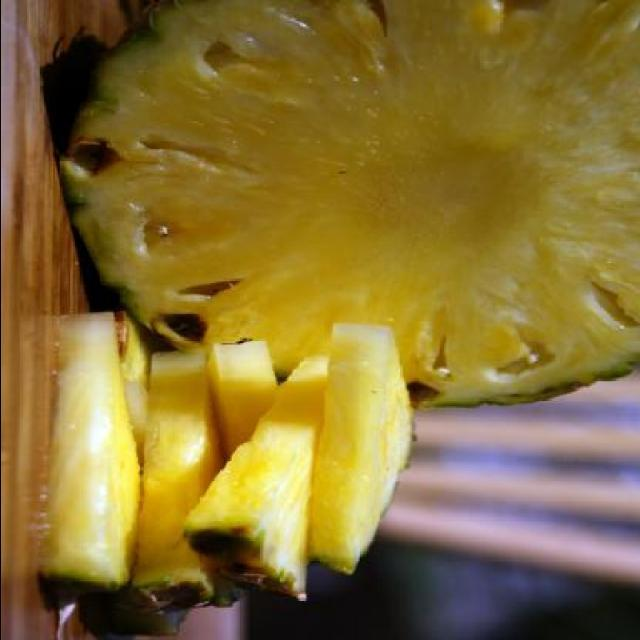Pineapple: (51, 0, 640, 415), (26, 306, 428, 640)
